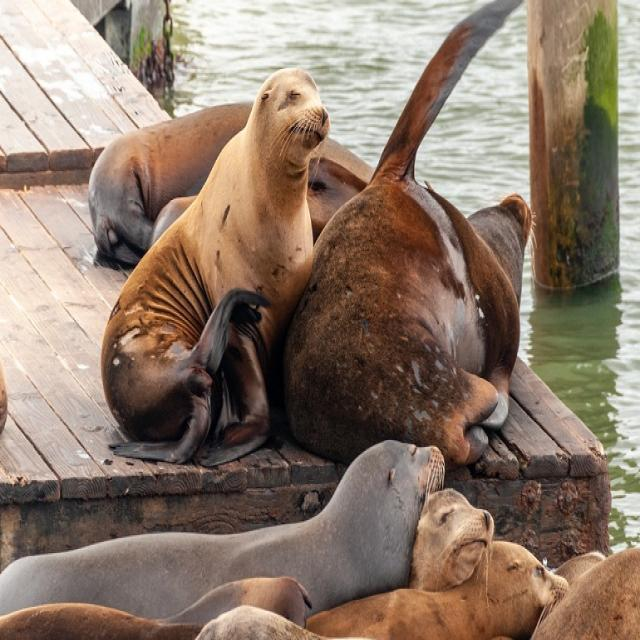WaterDog: (104, 64, 330, 466), (220, 440, 443, 610), (411, 478, 493, 595)
